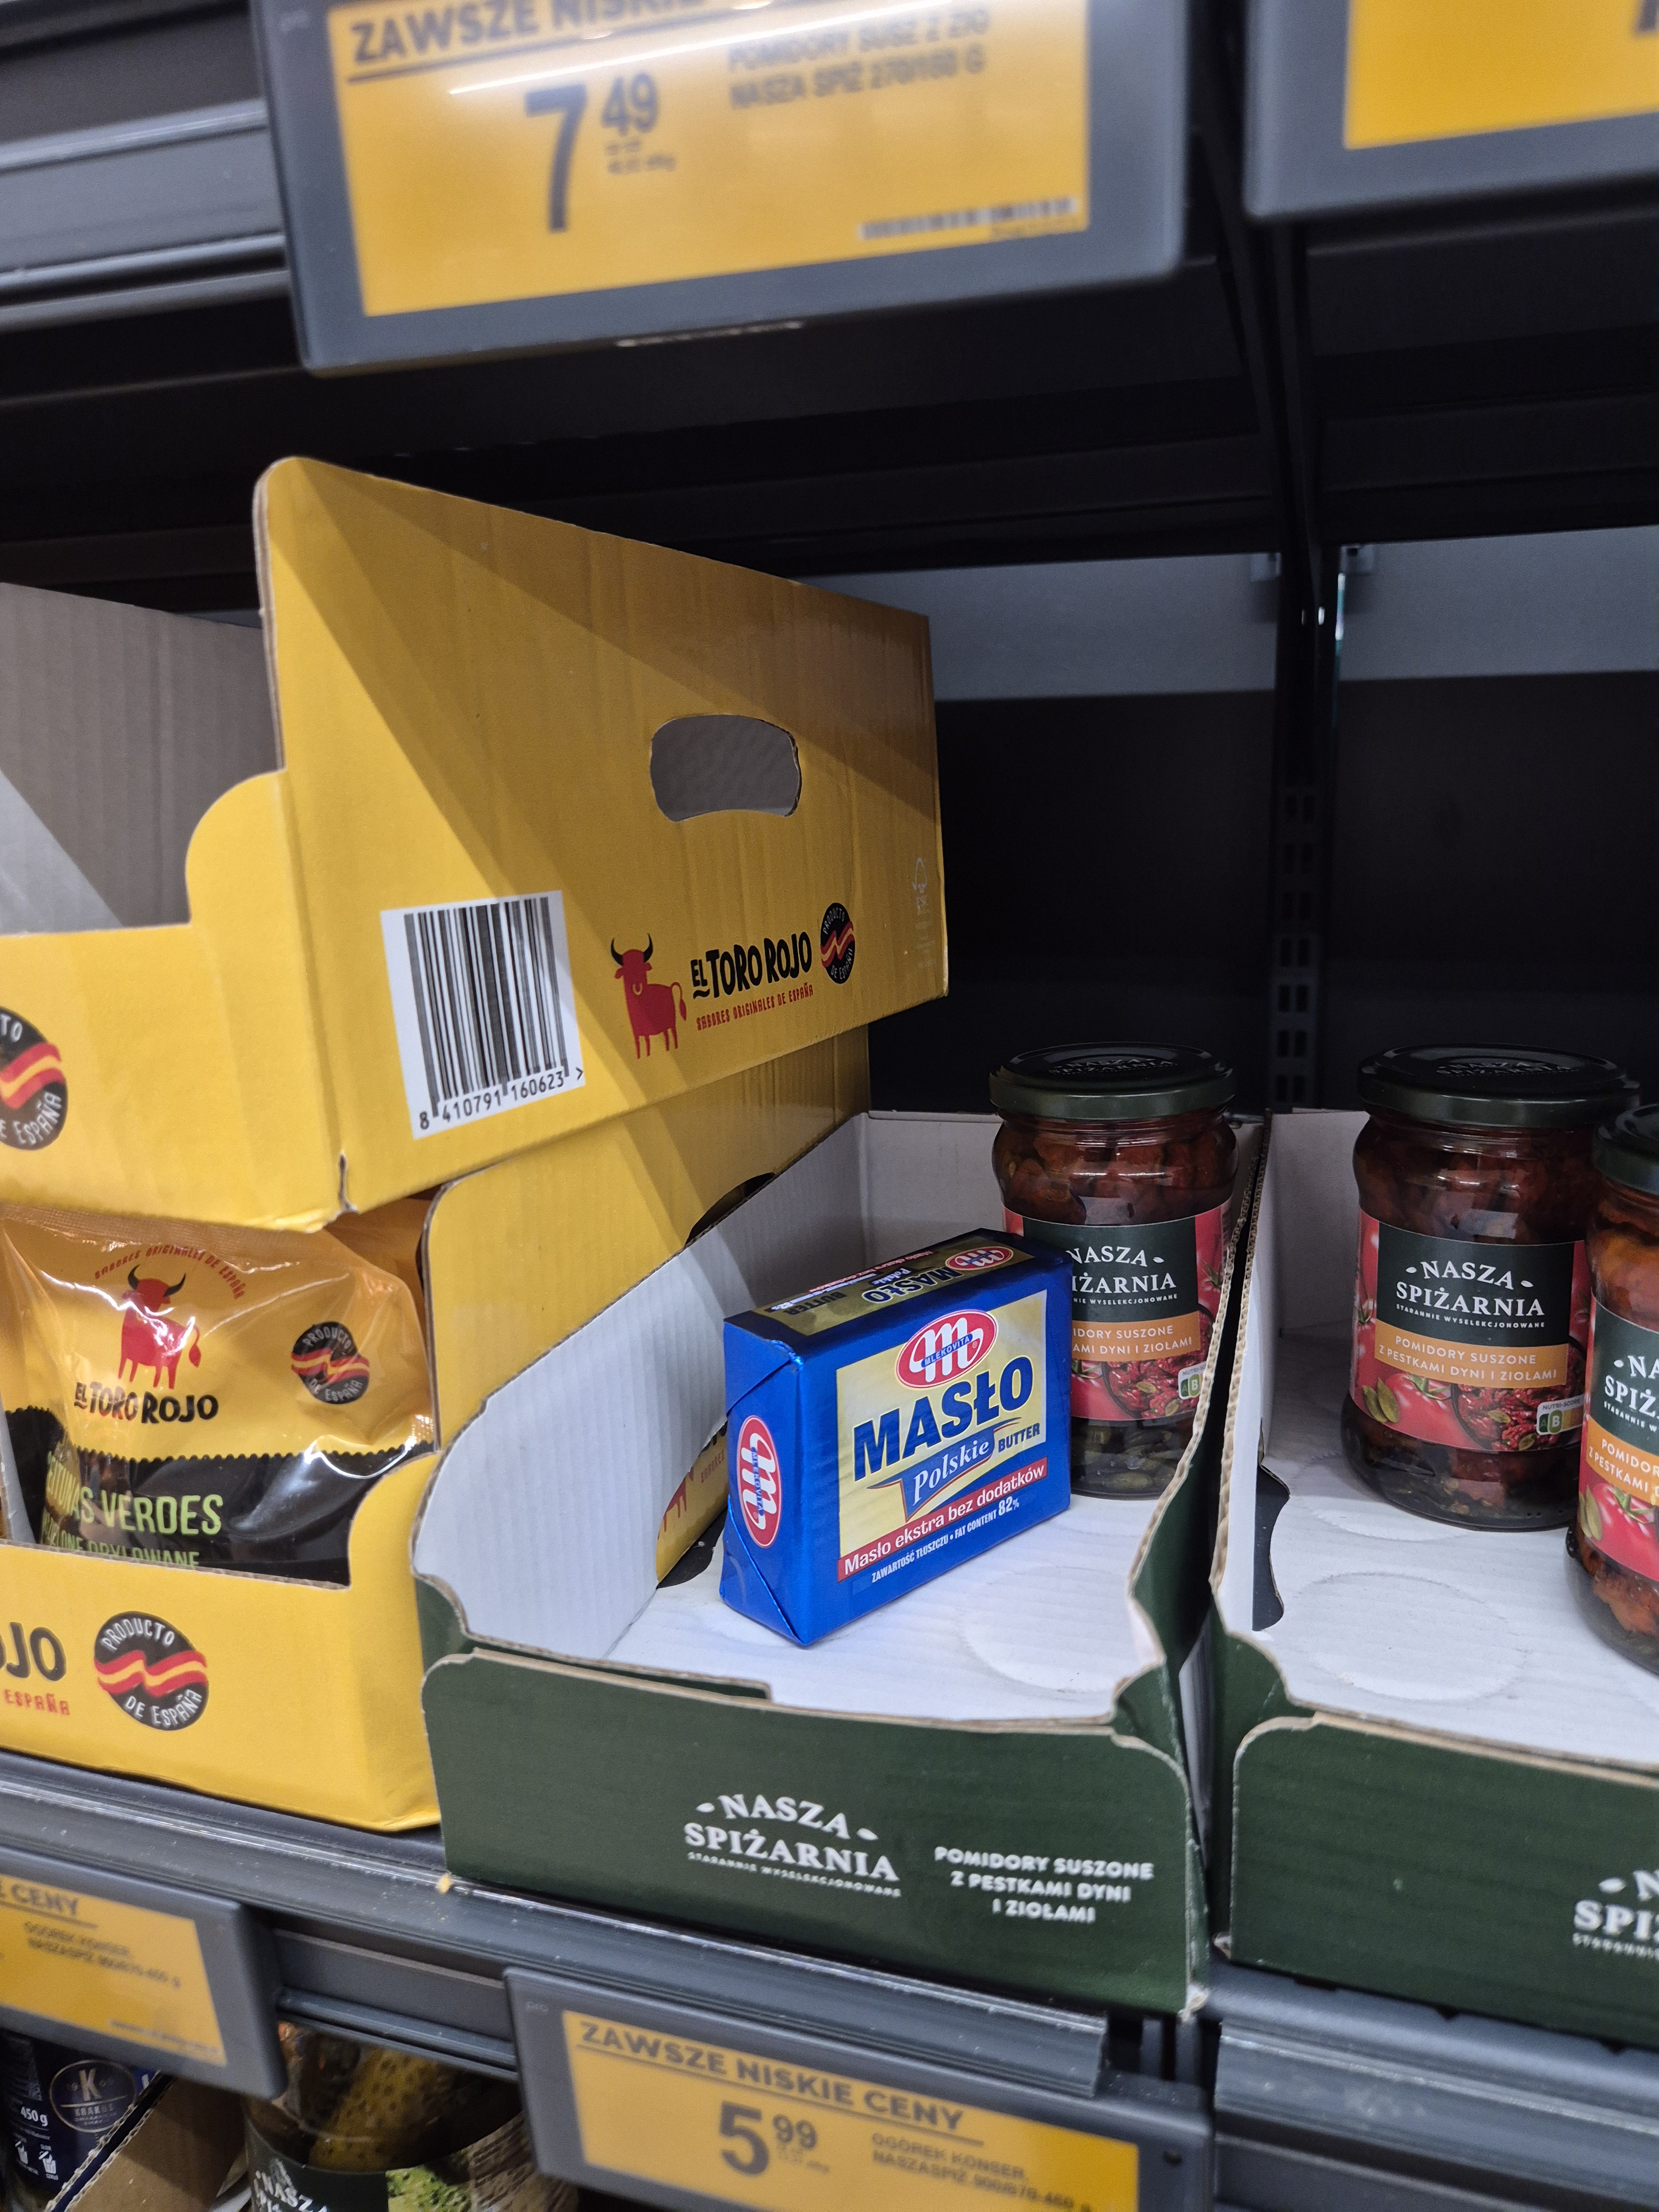Butter: (709, 1207, 1117, 1639)
